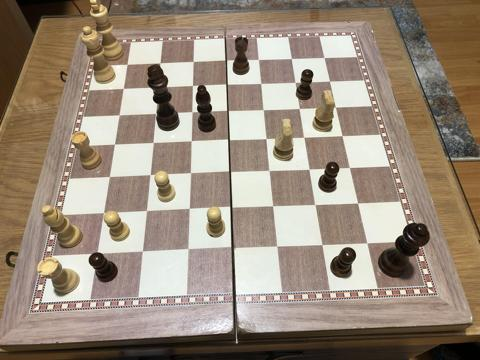xcorner: (317, 52, 329, 64), (284, 54, 296, 66), (252, 55, 264, 67), (219, 56, 231, 68), (186, 57, 198, 69), (154, 58, 166, 70), (121, 59, 133, 71), (322, 76, 334, 88), (288, 77, 300, 89), (254, 78, 266, 90), (220, 80, 232, 92), (186, 81, 198, 93), (152, 82, 164, 94), (117, 83, 129, 95), (328, 102, 340, 114), (293, 103, 305, 115), (257, 104, 269, 116), (221, 106, 233, 118), (185, 107, 197, 119), (149, 108, 161, 120), (113, 110, 125, 122), (335, 130, 347, 142), (260, 133, 272, 145), (184, 136, 196, 148), (146, 137, 158, 149), (109, 139, 121, 151), (343, 162, 355, 174), (303, 164, 315, 176), (263, 165, 275, 177), (223, 167, 235, 179), (183, 168, 195, 180), (103, 171, 115, 183), (309, 199, 321, 211), (267, 201, 279, 213), (225, 202, 237, 214), (183, 204, 195, 216), (140, 206, 152, 218), (98, 207, 110, 219), (360, 237, 372, 249), (316, 239, 328, 251), (271, 241, 283, 253), (226, 243, 238, 255), (181, 245, 193, 257), (136, 246, 148, 258), (91, 248, 103, 260), (298, 132, 309, 144), (222, 135, 234, 146), (144, 170, 155, 182), (351, 198, 363, 209)
